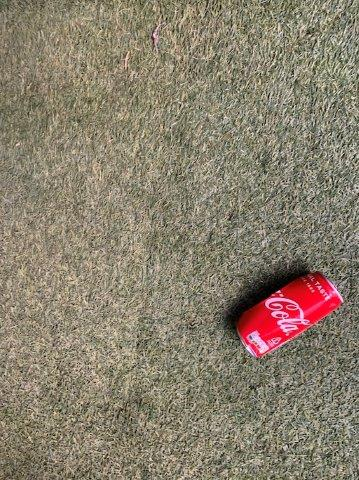kaleng: (238, 274, 342, 358)
